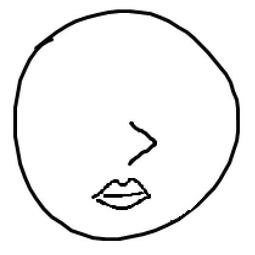cupid_mouth: (86, 166, 161, 213)
pointy_nose: (116, 105, 164, 166)
